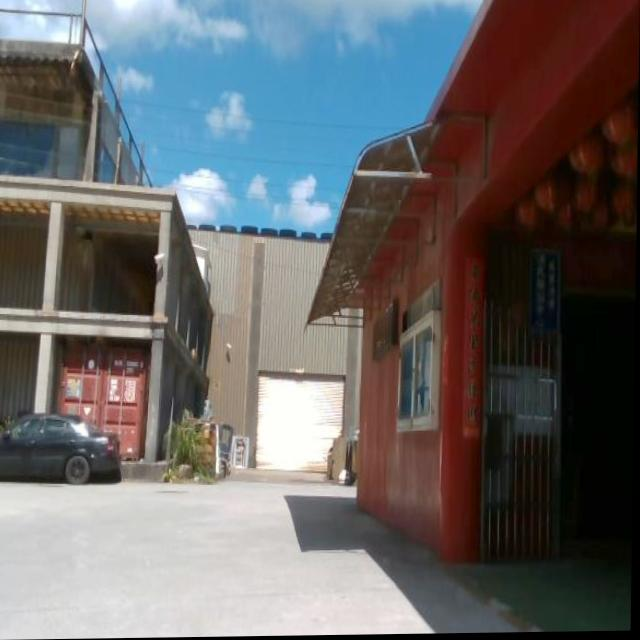pollute: (189, 401, 253, 484), (328, 425, 359, 488)
